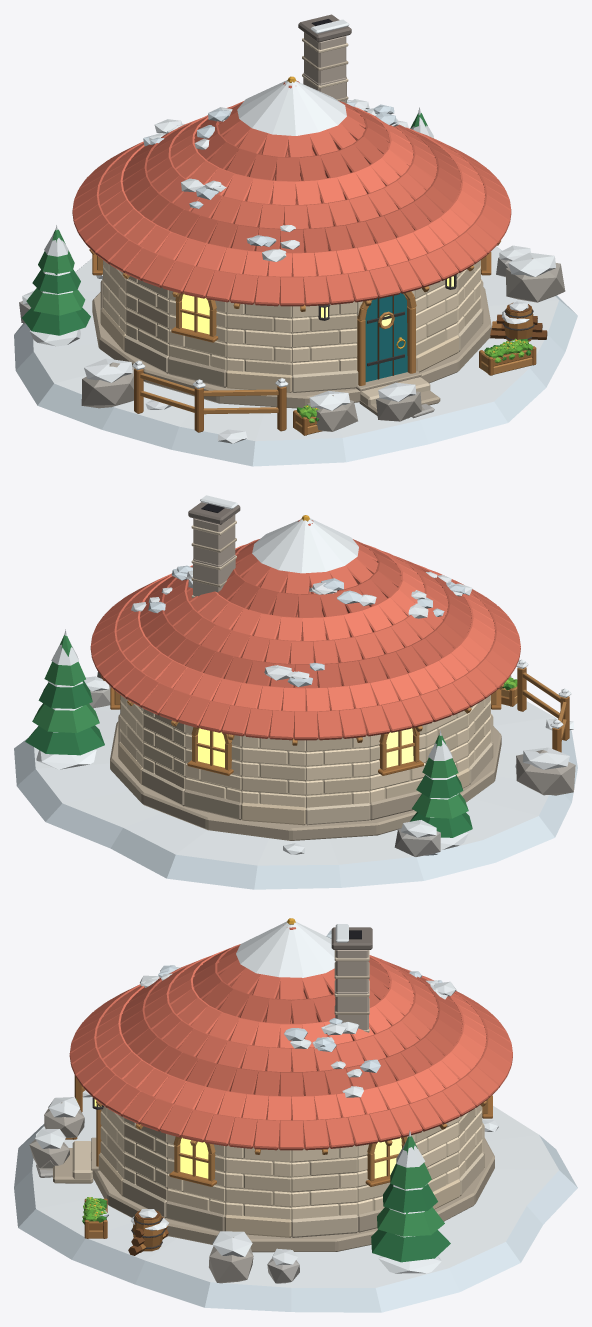
File: round_cottage_t2_exterior.glb
3 views of the same model, one above another, from view 1: azimuth 30°, elevation 25°; view 2: azimuth 150°, elevation 25°; view 3: azimuth 270°, elevation 25° (orthographic). The views are drawn at different scales.
Parts seen in each view (by area): view 1: round_cottage_t2_exterior, round_cottage_t2_exterior_roof, part_crown, part_door_leaf; view 2: round_cottage_t2_exterior, round_cottage_t2_exterior_roof, part_crown__park.001, part_crown; view 3: round_cottage_t2_exterior, round_cottage_t2_exterior_roof, part_crown__park.001.
Part boxes in pixels (x1,y1,x2,y2): round_cottage_t2_exterior: (14,245,577,466); round_cottage_t2_exterior_roof: (72,14,511,311); part_crown: (22,225,90,335); part_door_leaf: (365,293,407,381); round_cottage_t2_exterior: (14,659,577,889); round_cottage_t2_exterior_roof: (90,495,520,745); part_crown__park.001: (25,629,104,755); part_crown: (410,730,472,837); round_cottage_t2_exterior: (14,1075,577,1312); round_cottage_t2_exterior_roof: (69,918,512,1154); part_crown__park.001: (371,1130,450,1262).
Bounding box in the file's own units: 8.99 × 4.82 × 8.56.
